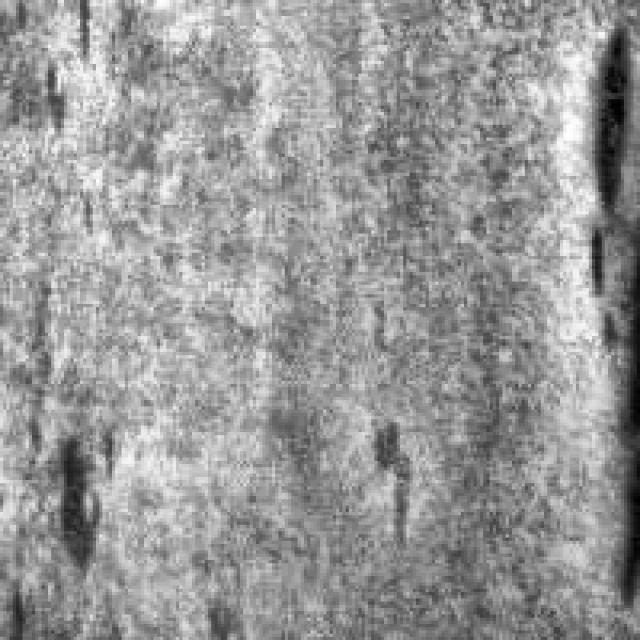Patches: (560, 16, 634, 349), (32, 419, 118, 579), (358, 412, 429, 534), (28, 51, 84, 138)
